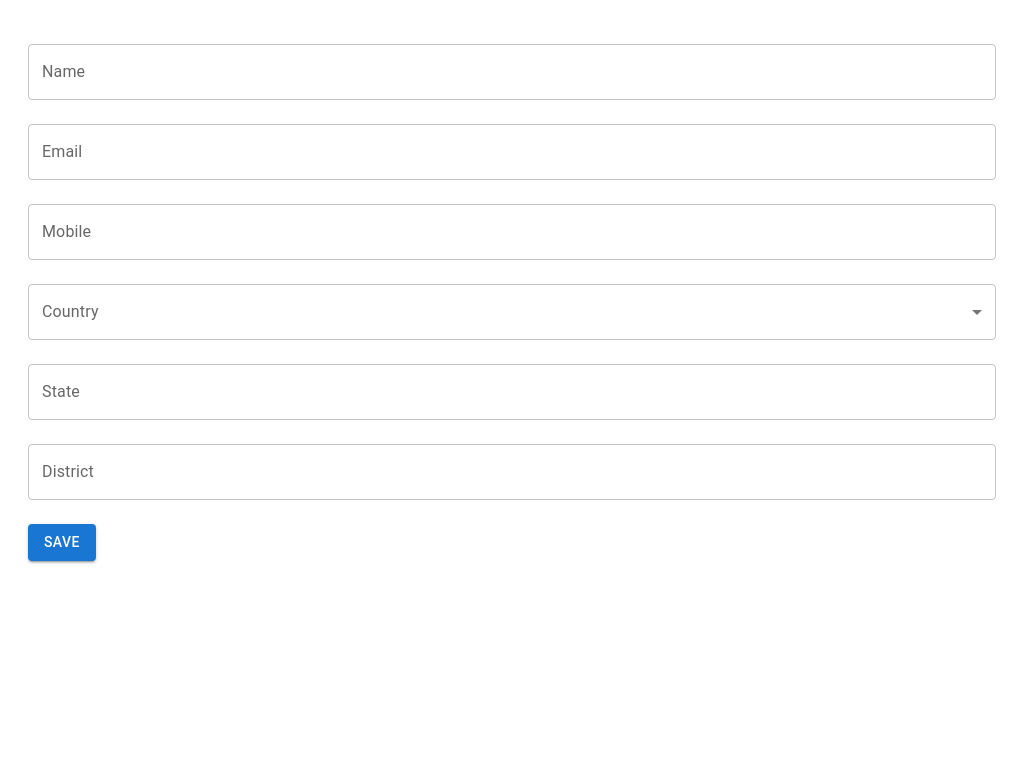
Test: EmployeeForm › shows error messages for required fields on empty submit
Click the button "Save" at (62, 542), box [28,524,96,560]
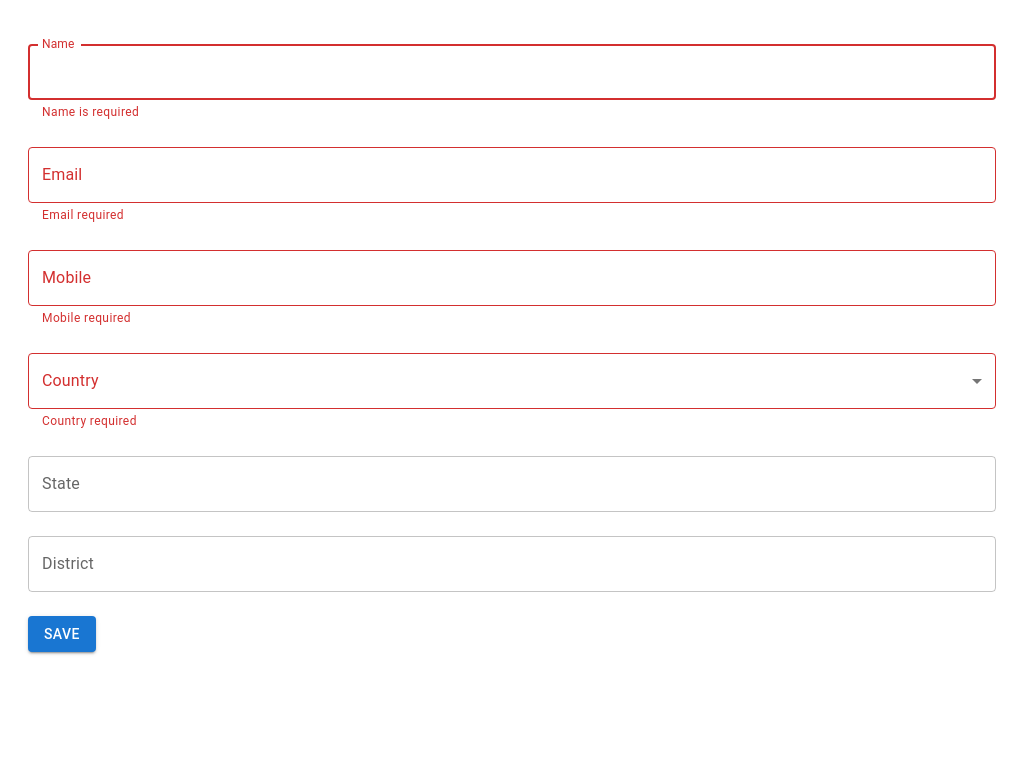
Expected: the text "Name is required" is shown, [42,105,139,119]
Expected: the text "Email required" is shown, [42,208,124,222]
Expected: the text "Mobile required" is shown, [42,311,131,325]
